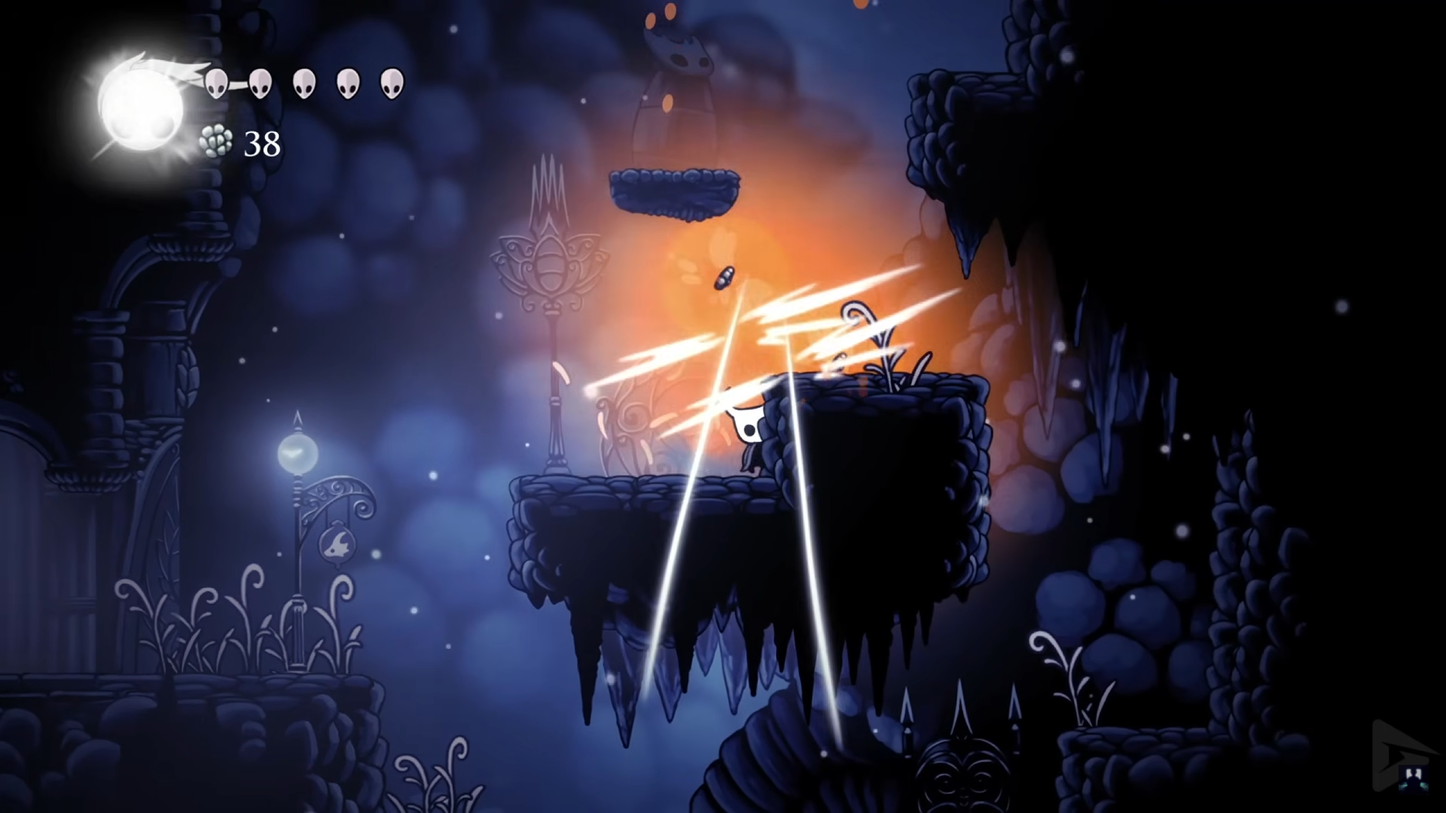HK: (716, 382, 777, 479)
